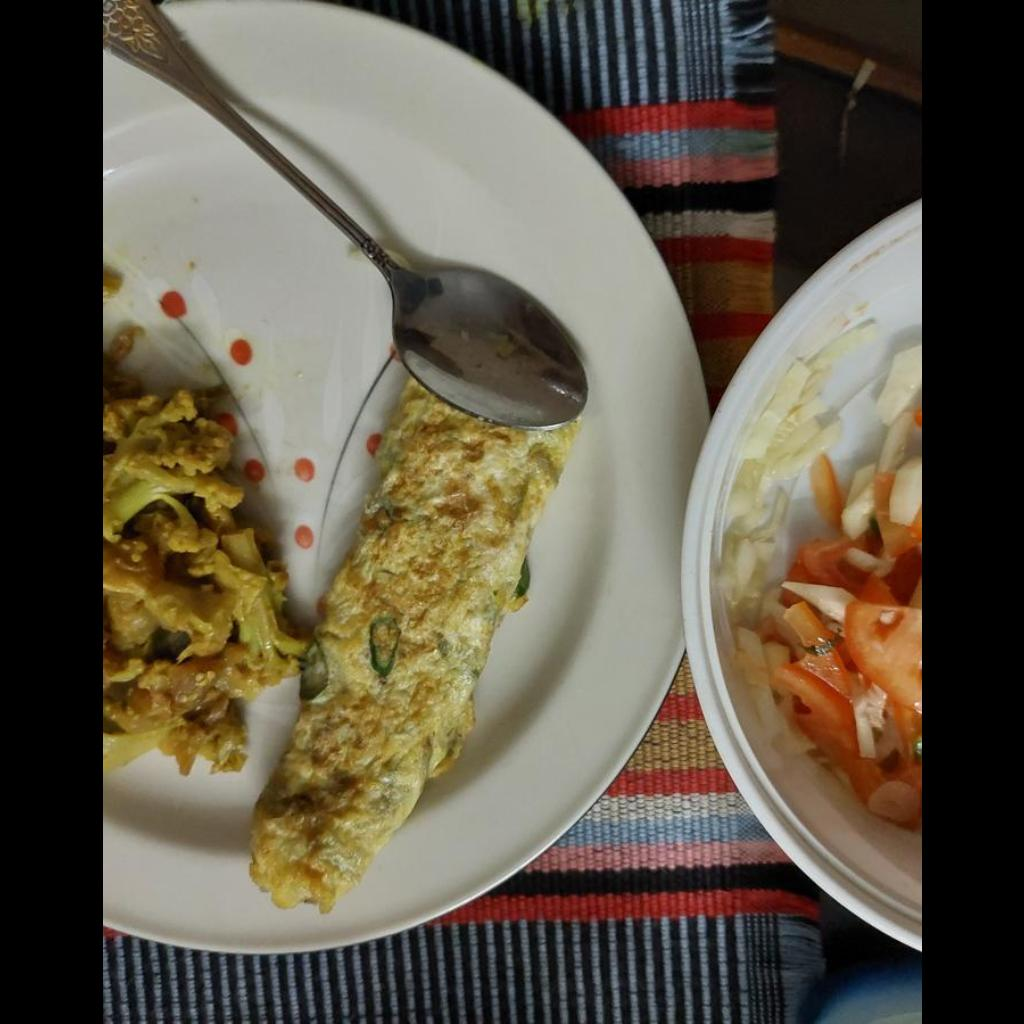egg-poached: (242, 383, 570, 909)
salad: (765, 346, 920, 827)
vaji: (102, 392, 302, 776)
